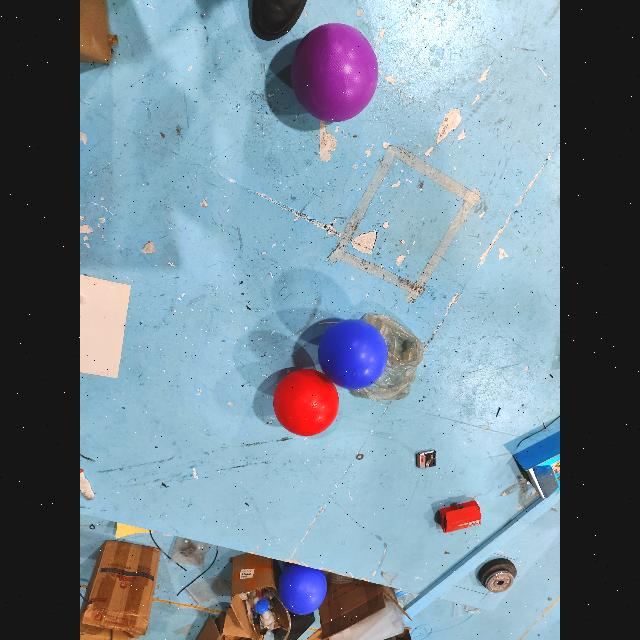B: (318, 322, 388, 391), (277, 562, 327, 616)
P: (290, 22, 380, 122)
R: (272, 369, 338, 439)
